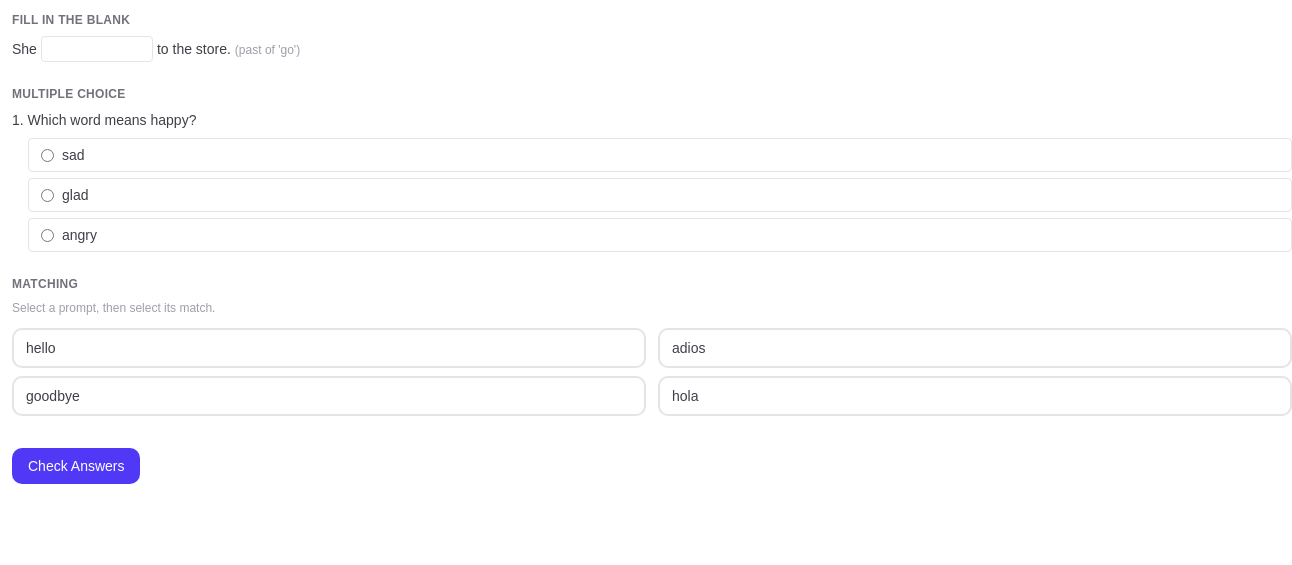
Test: ExercisesRenderer.Student › shows explanation below wrong multiple choice answer
Click the radio button with test id "mc-option-0-0" at (48, 155), box [41,148,54,162]
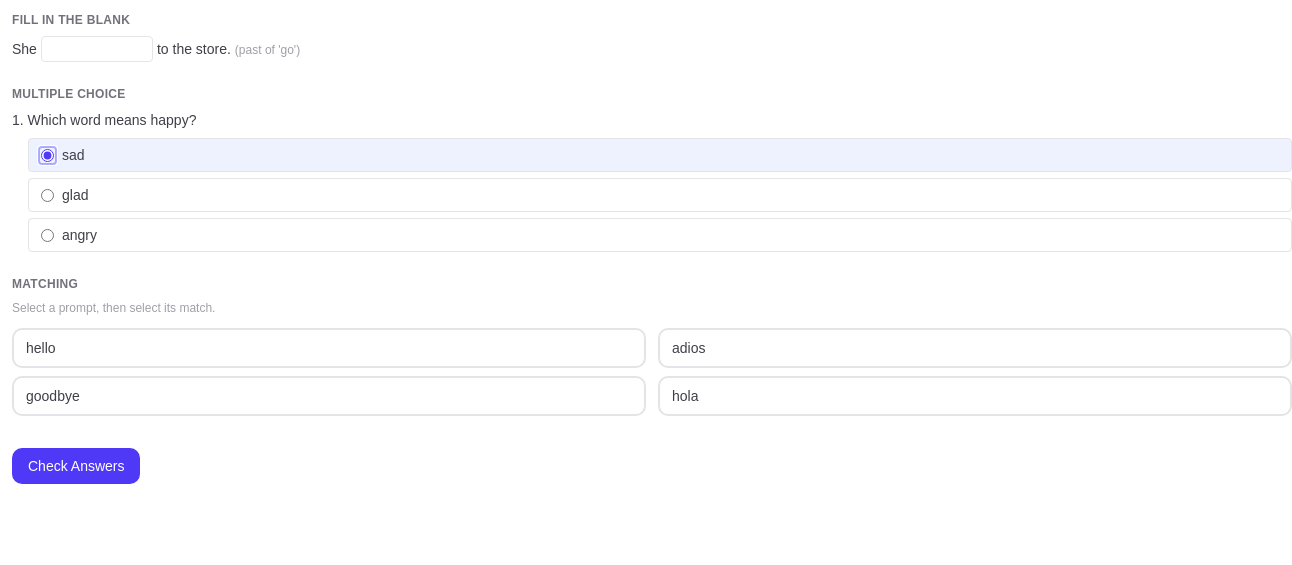
Click the button with test id "check-answers-btn" at (76, 466), box [12,448,140,484]
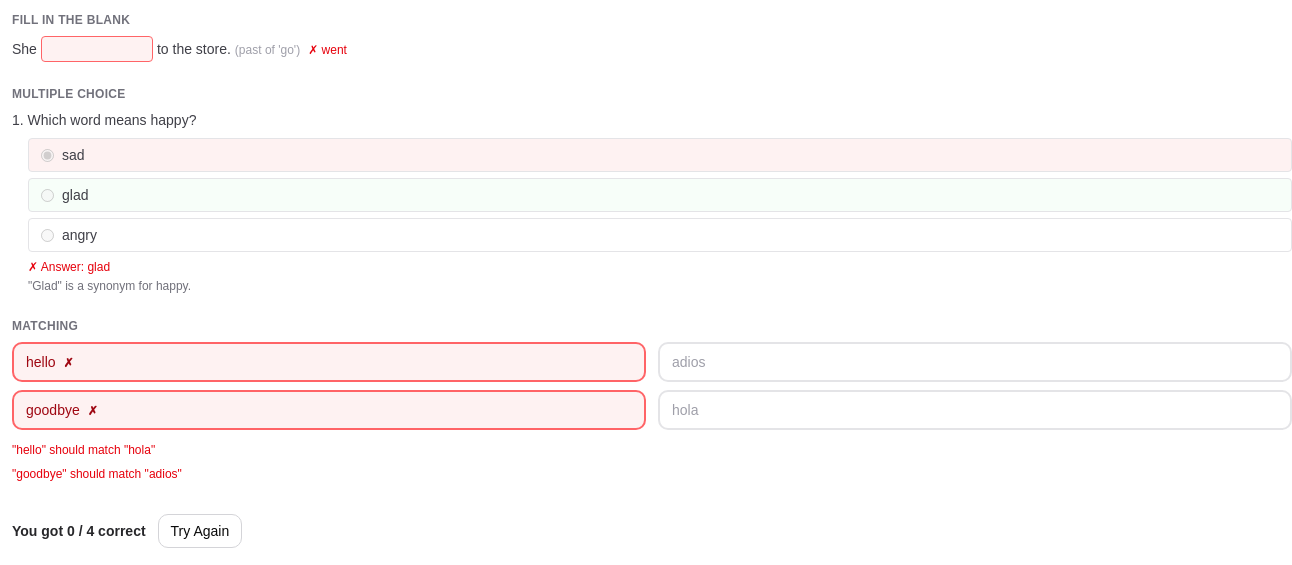
Now the text with test id "mc-result-0" shows "✗", box [28,260,110,274]
Now the text with test id "mc-explanation-0" reads "\"Glad\" is a synonym for happy.", box [28,279,191,293]
